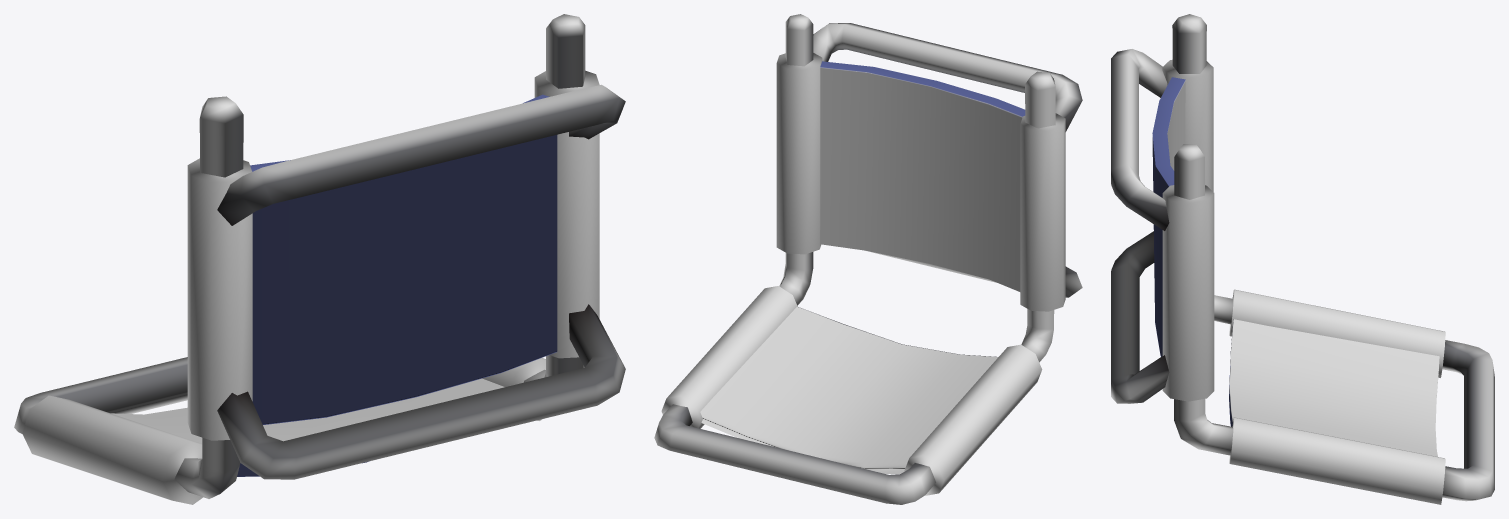
File: BlizzardBeachBeachChair.fbx
3 renders of one model, left to right at view 1: azimuth 30°, elevation 25°; view 2: azimuth 150°, elevation 25°; view 3: azimuth 270°, elevation 25°, orthographic. The views are drawn at different scales.
Parts seen in each view (by area): view 1: BlizzardBeachBeachChair; view 2: BlizzardBeachBeachChair; view 3: BlizzardBeachBeachChair.
Boxes of the visible parts, x1,y1,x2,y2 form: BlizzardBeachBeachChair: [14, 14, 625, 504]; BlizzardBeachBeachChair: [654, 14, 1082, 504]; BlizzardBeachBeachChair: [1111, 14, 1494, 504].
Bounding box in the file's own units: 82.58 × 93.02 × 90.15.
